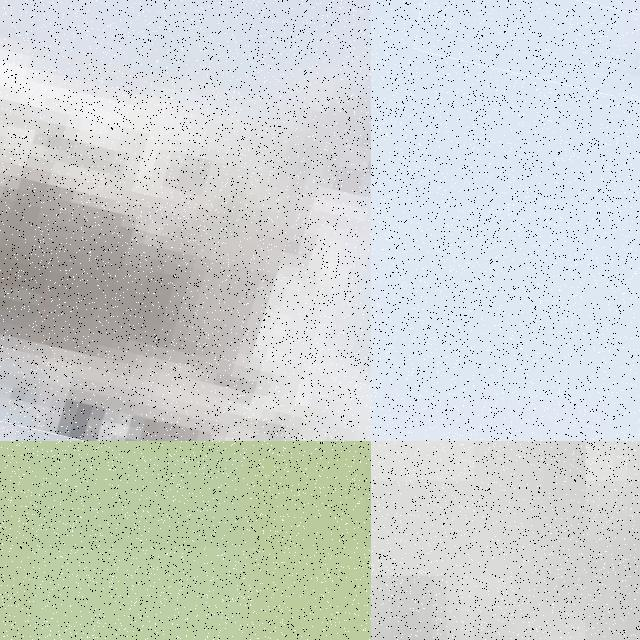drone: (0, 0, 371, 441), (417, 0, 640, 96)
